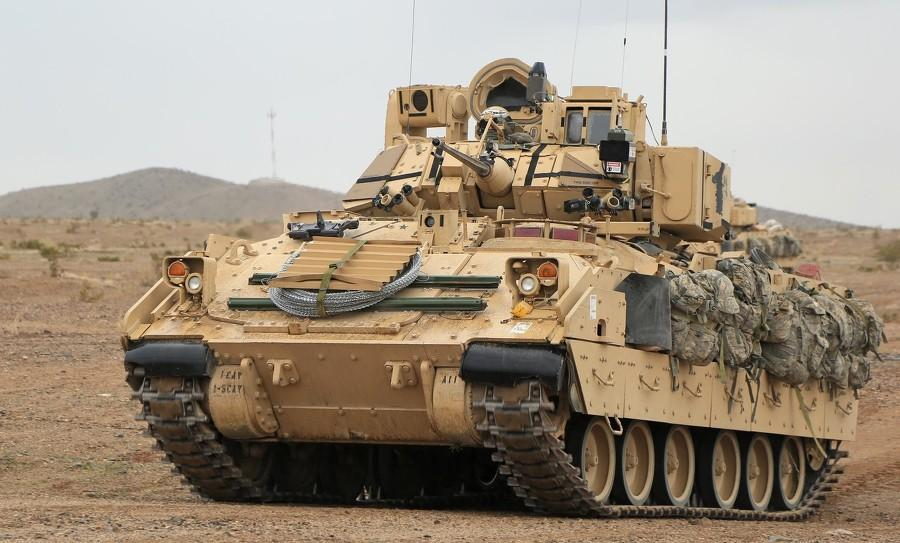MIL_IFV: (119, 56, 888, 524)
